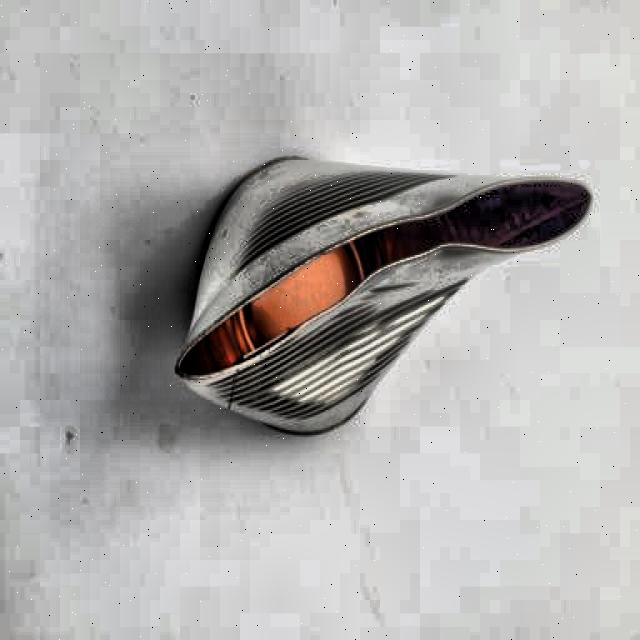metal: (172, 156, 594, 434)
